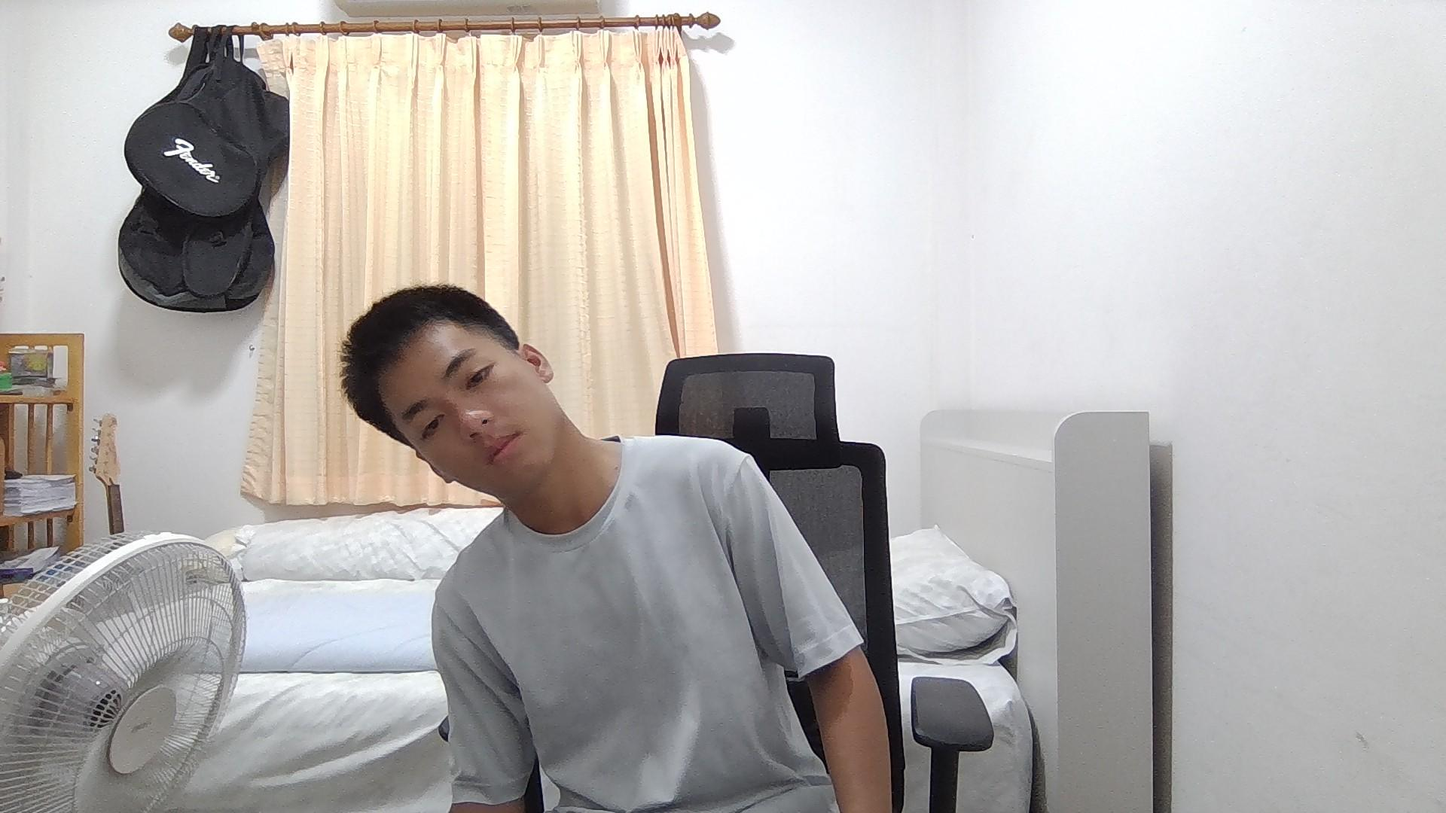BadPosture: (342, 287, 896, 812)
